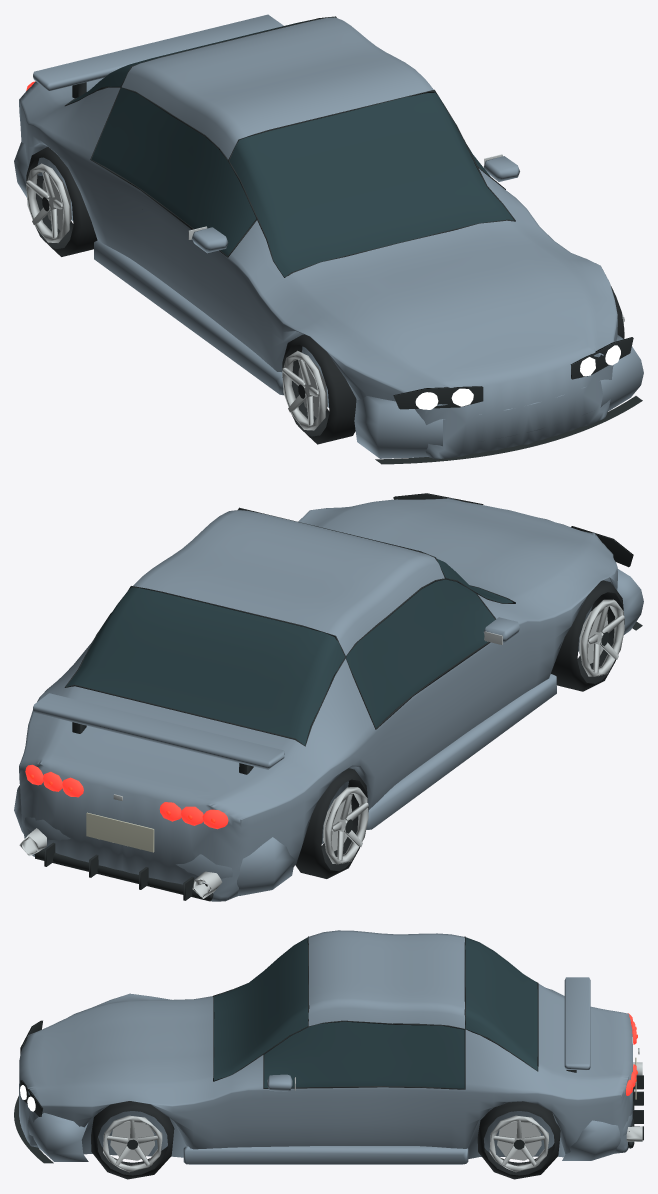
The model's file is renvyx-tirva.glb.
3 views of the same model, one above another, from view 1: azimuth 30°, elevation 25°; view 2: azimuth 150°, elevation 25°; view 3: azimuth 270°, elevation 25° (orthographic). The views are drawn at different scales.
Visible parts, largest first — view 1: scocca, cristallo_ant, cofano, tetto, cristallo_sx, porta_sx, paraurti_ant, minigonna_sx, spoiler, ruota_ant_sx_gomma, ruota_post_sx_gomma, splitter_ant (+13 smaller); view 2: scocca, cristallo_post, tetto, portellone, cofano, cristallo_sx, porta_sx, spoiler, minigonna_sx, paraurti_post, ruota_ant_sx_gomma, ruota_post_sx_gomma (+10 smaller); view 3: scocca, cofano, tetto, porta_dx, cristallo_dx, cristallo_ant, cristallo_post, portellone, minigonna_dx, spoiler, ruota_ant_dx_gomma, ruota_post_dx_gomma (+13 smaller).
Boxes of the visible parts, box(x1,y1,x2,y2) form: scocca: box(19, 83, 617, 459); cristallo_ant: box(229, 92, 514, 276); cofano: box(284, 220, 597, 377); tetto: box(121, 17, 433, 159); cristallo_sx: box(91, 88, 256, 255); porta_sx: box(90, 160, 243, 343); paraurti_ant: box(354, 335, 643, 458); minigonna_sx: box(94, 240, 283, 395); spoiler: box(33, 14, 283, 90); ruota_ant_sx_gomma: box(282, 334, 356, 444); ruota_post_sx_gomma: box(26, 147, 97, 256); splitter_ant: box(375, 396, 642, 464); scocca: box(19, 498, 617, 901); cristallo_post: box(66, 587, 344, 745); tetto: box(133, 510, 444, 655); portellone: box(34, 686, 304, 809); cofano: box(317, 499, 597, 603); cristallo_sx: box(346, 579, 495, 727); porta_sx: box(369, 635, 516, 809); spoiler: box(33, 693, 284, 769); minigonna_sx: box(366, 674, 556, 829); paraurti_post: box(14, 785, 294, 895); ruota_ant_sx_gomma: box(551, 580, 624, 691); ruota_post_sx_gomma: box(295, 768, 368, 878); scocca: box(19, 988, 632, 1158); cofano: box(41, 996, 213, 1091); tetto: box(308, 930, 464, 1028); porta_dx: box(248, 1087, 465, 1148); cristallo_dx: box(264, 1021, 464, 1088); cristallo_ant: box(213, 937, 308, 1080); cristallo_post: box(465, 937, 537, 1070); portellone: box(538, 984, 632, 1083); minigonna_dx: box(183, 1146, 468, 1164); spoiler: box(564, 977, 590, 1070); ruota_ant_dx_gomma: box(91, 1101, 174, 1179); ruota_post_dx_gomma: box(477, 1101, 560, 1179).
Size of the model in its own units: 2.22 by 1.45 by 5.09.
